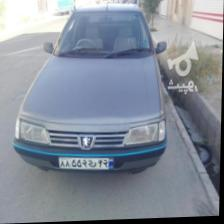plate: (58, 157, 116, 172)
